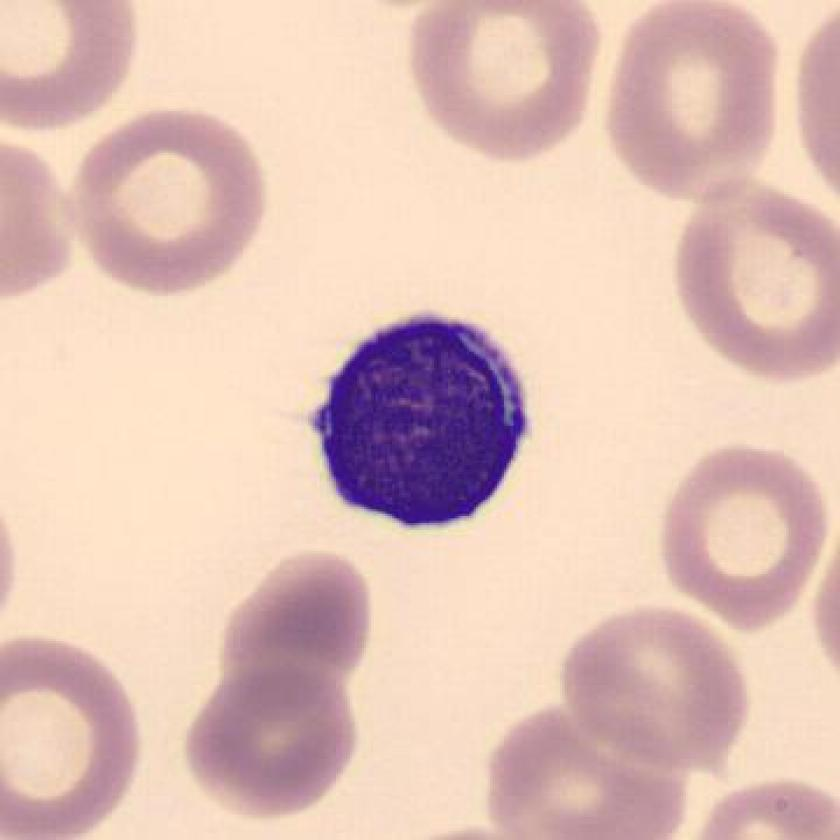lymphocyte: (298, 304, 550, 554)
